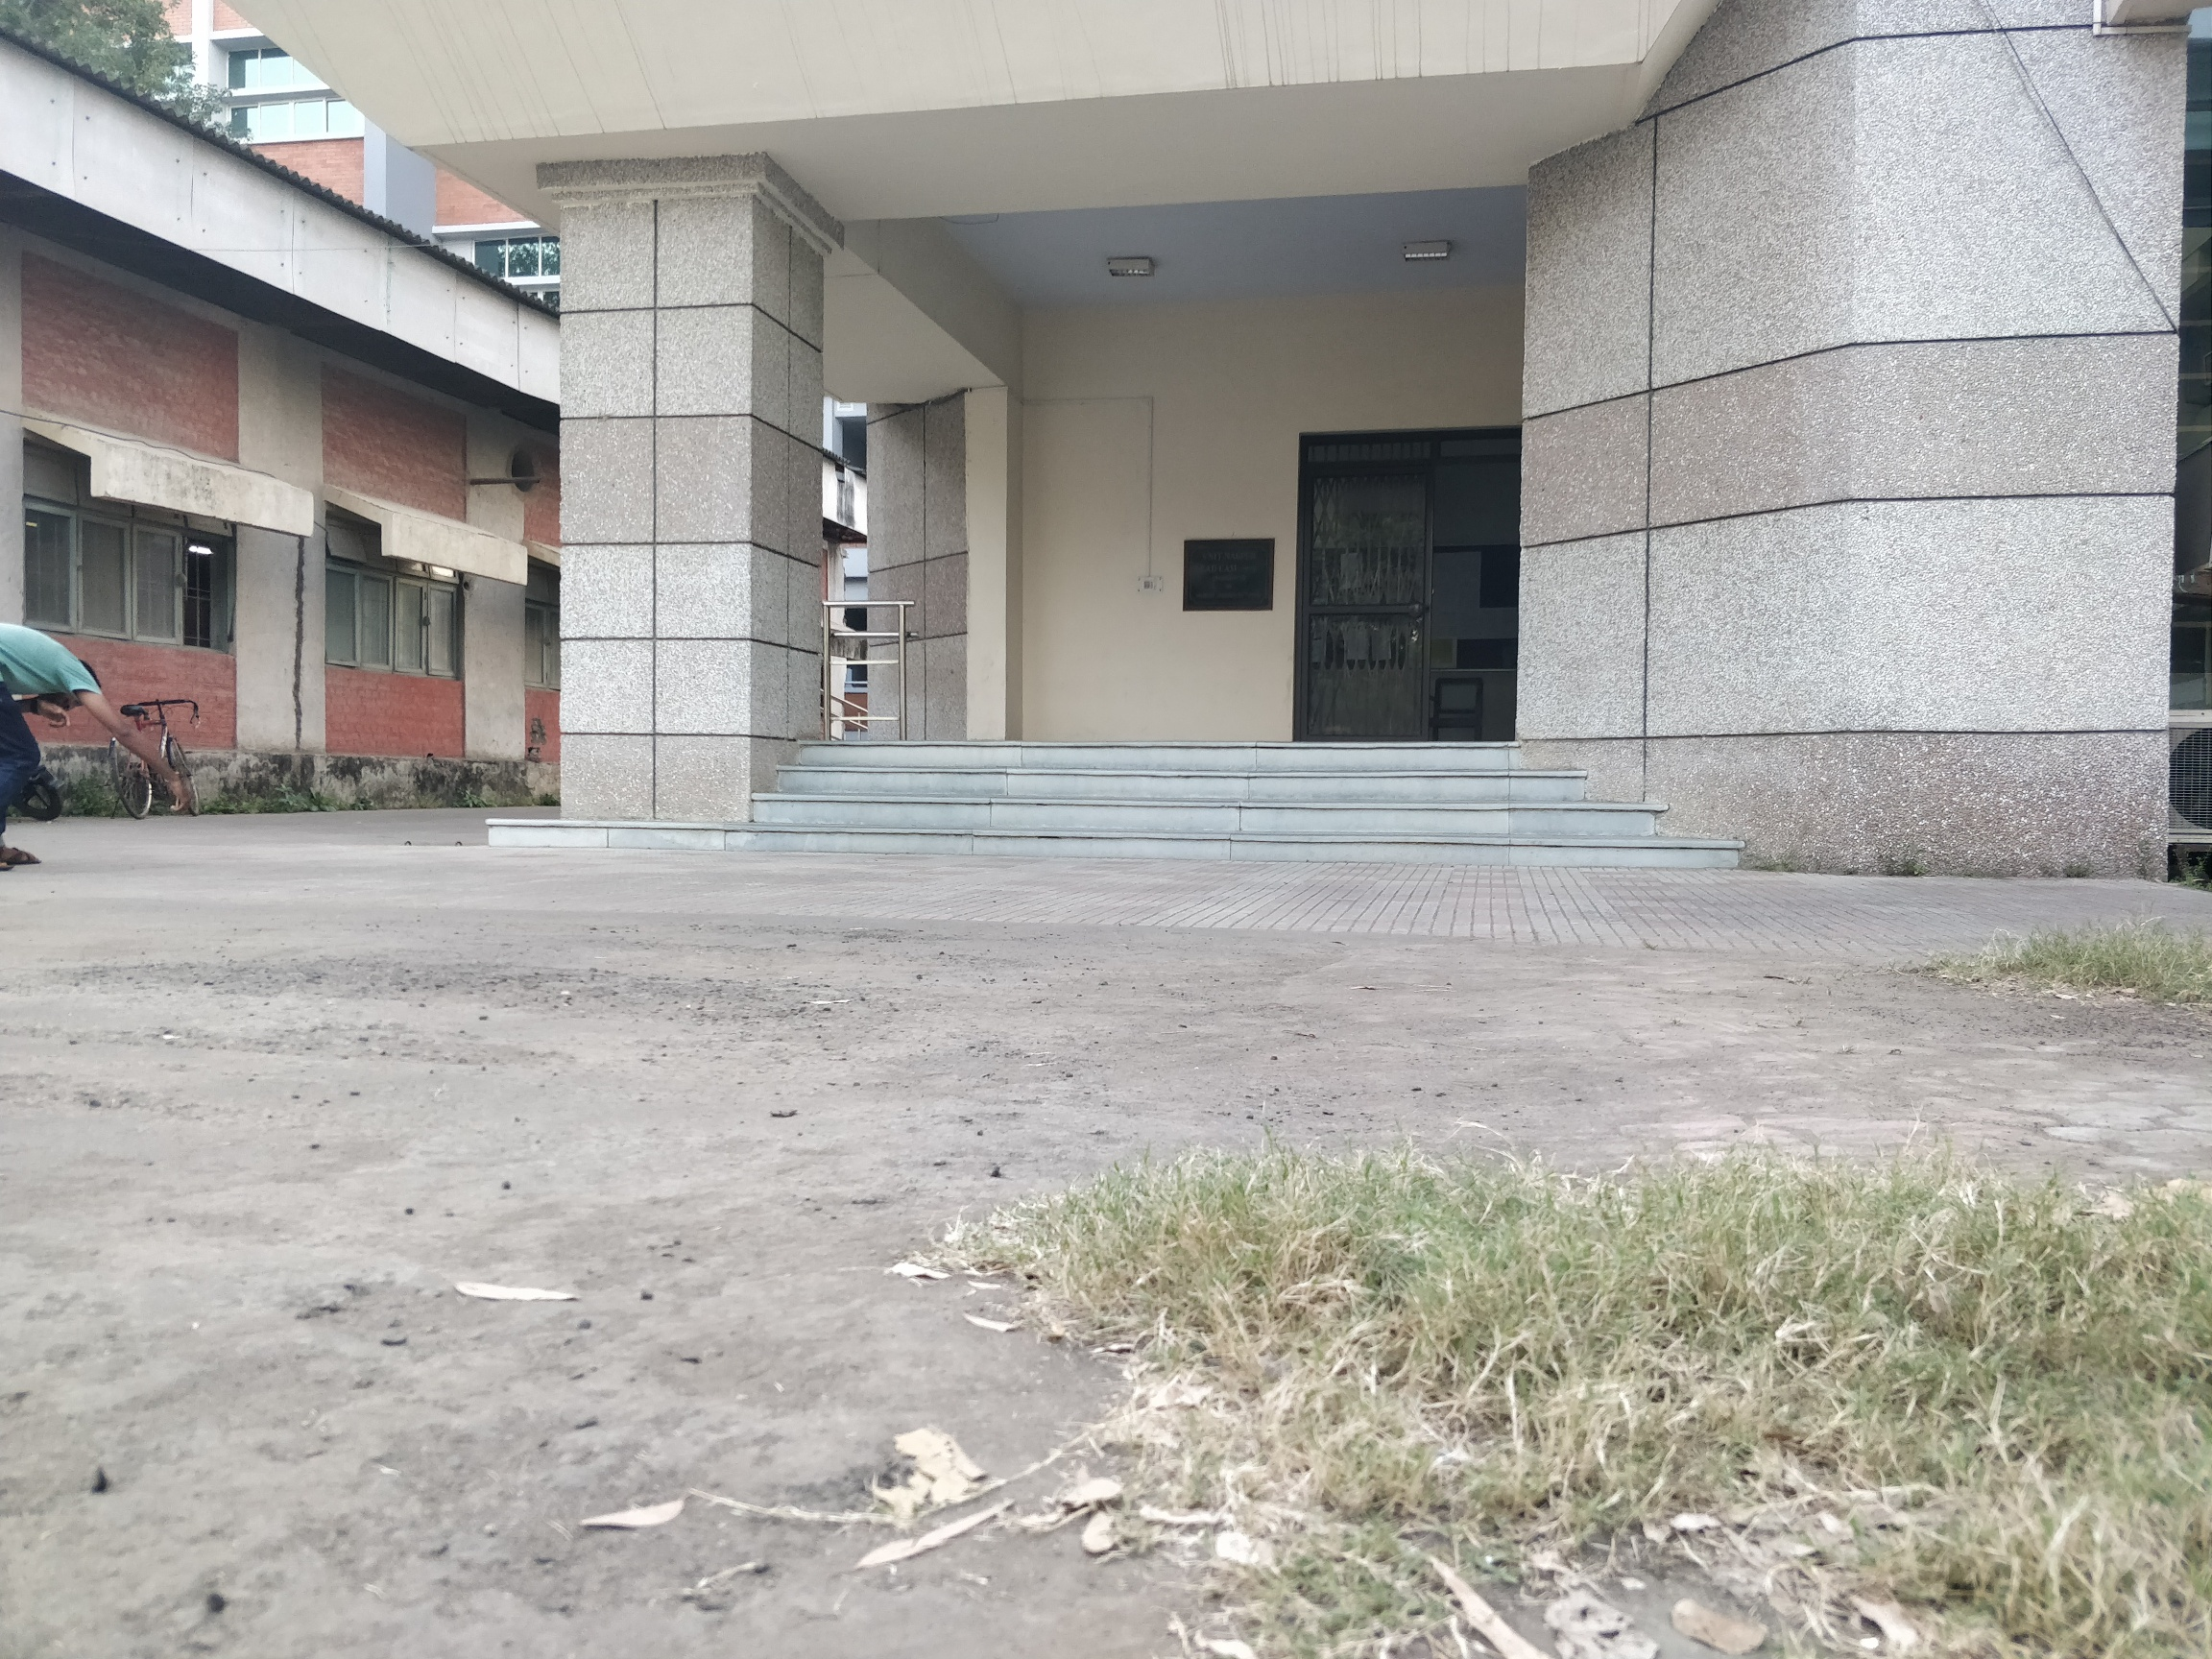stairs_up: (772, 734, 1714, 878)
